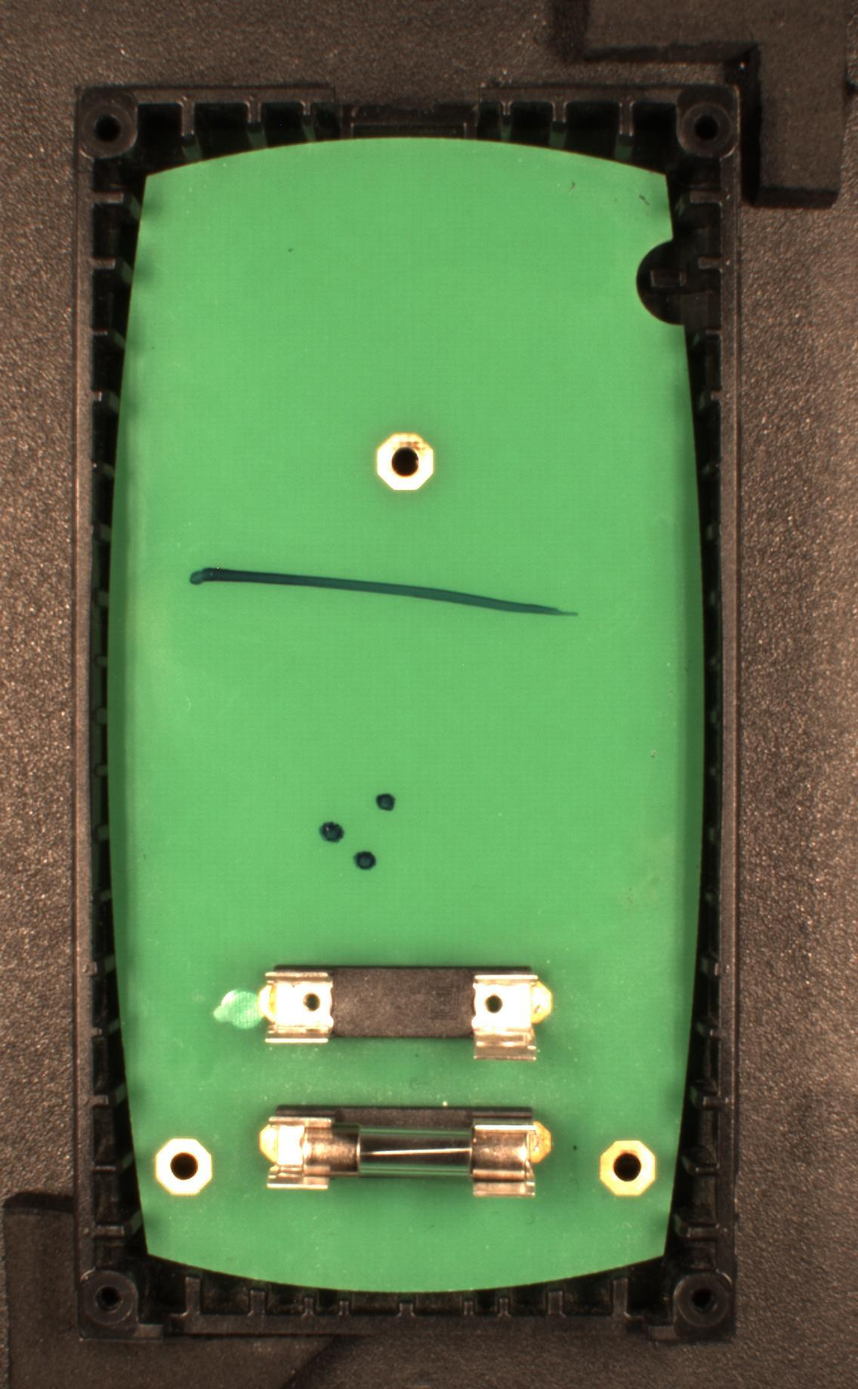Linijsko Ostecene: (188, 563, 581, 626)
Nepostojanje osiguraca: (258, 963, 553, 1066)
Tockasto Ostecenje: (353, 850, 379, 873), (319, 822, 344, 845), (373, 790, 397, 813)
